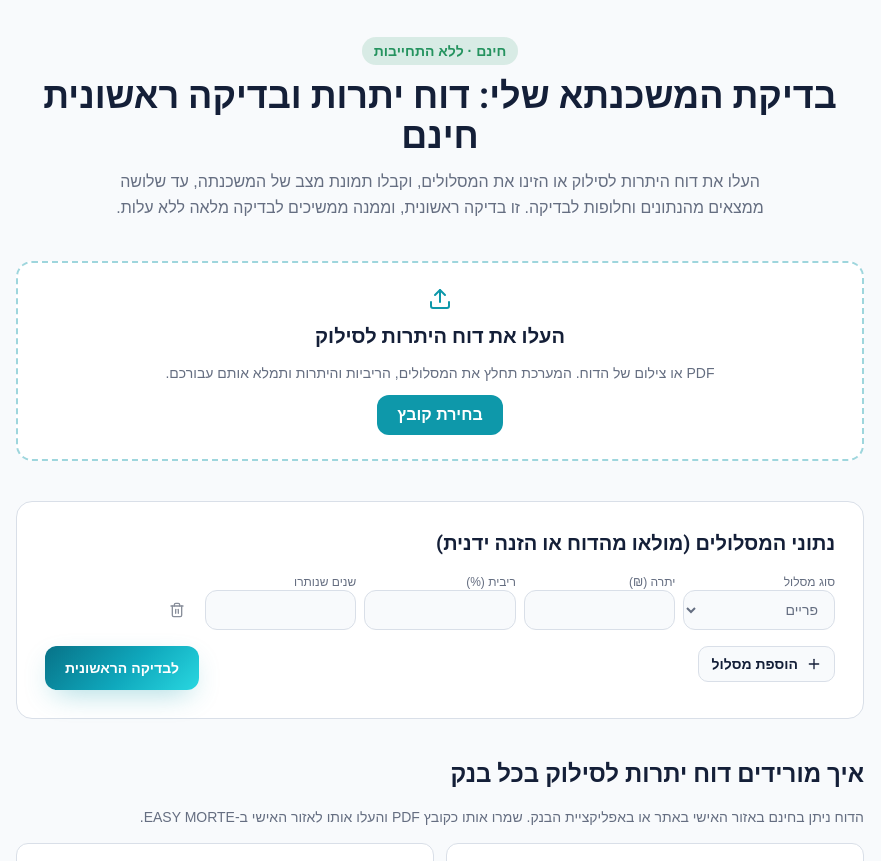
Scenario: BalanceCheckPage: alternatives against the baseline (#52 stage 3) › shows the baseline first, flags extension as not a saving, and keeps unknown costs unknown
Check: the text "בחירת קובץ" is shown, box [377,395,503,435]
Select "קבועה לא צמודה" in the dropdown labelled "סוג מסלול" at (759, 610), box [683,590,835,630]
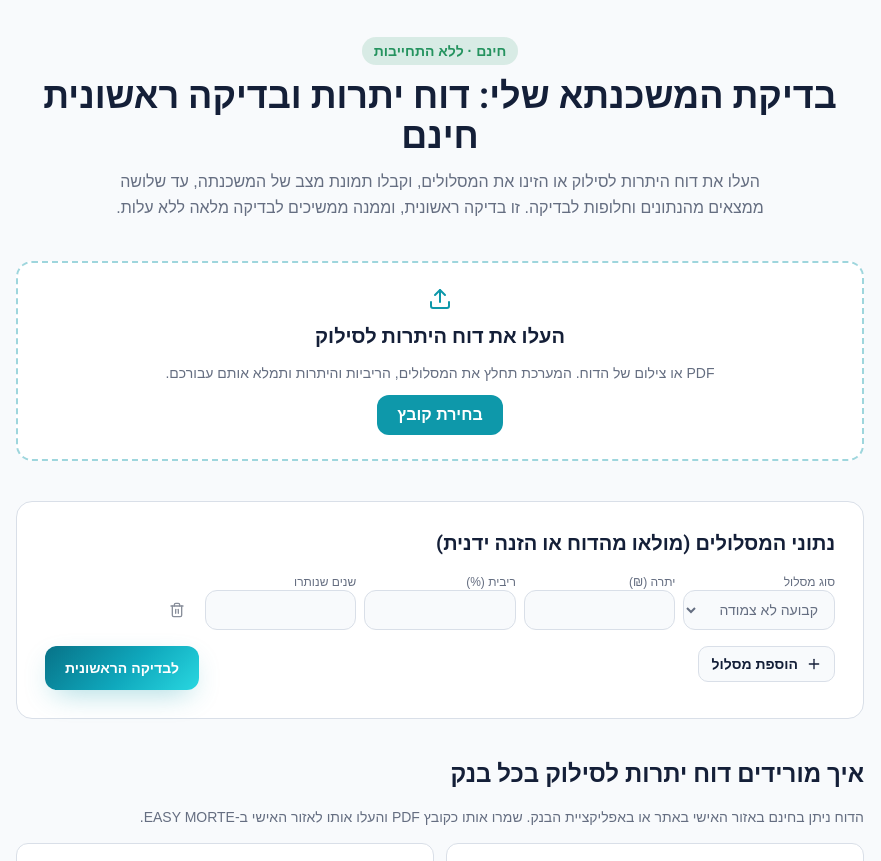
Type "500000" into the number field labelled "יתרה (₪)" at (600, 610), box [524,590,675,630]
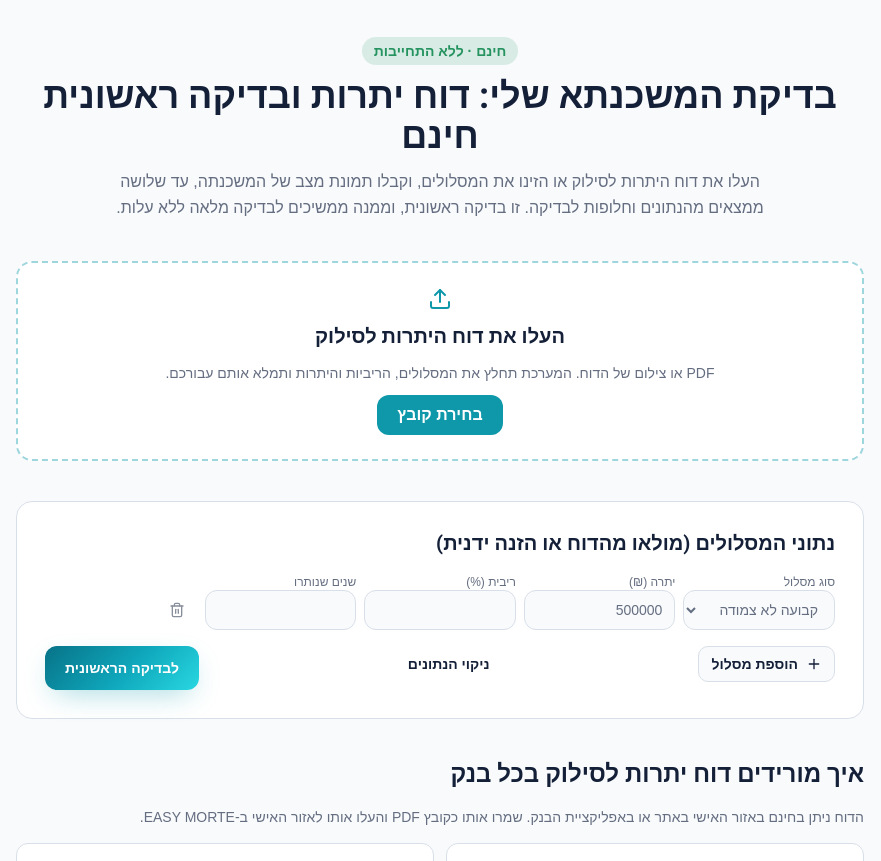
Type "6.2" into the number field labelled "ריבית (%)" at (440, 610), box [364,590,516,630]
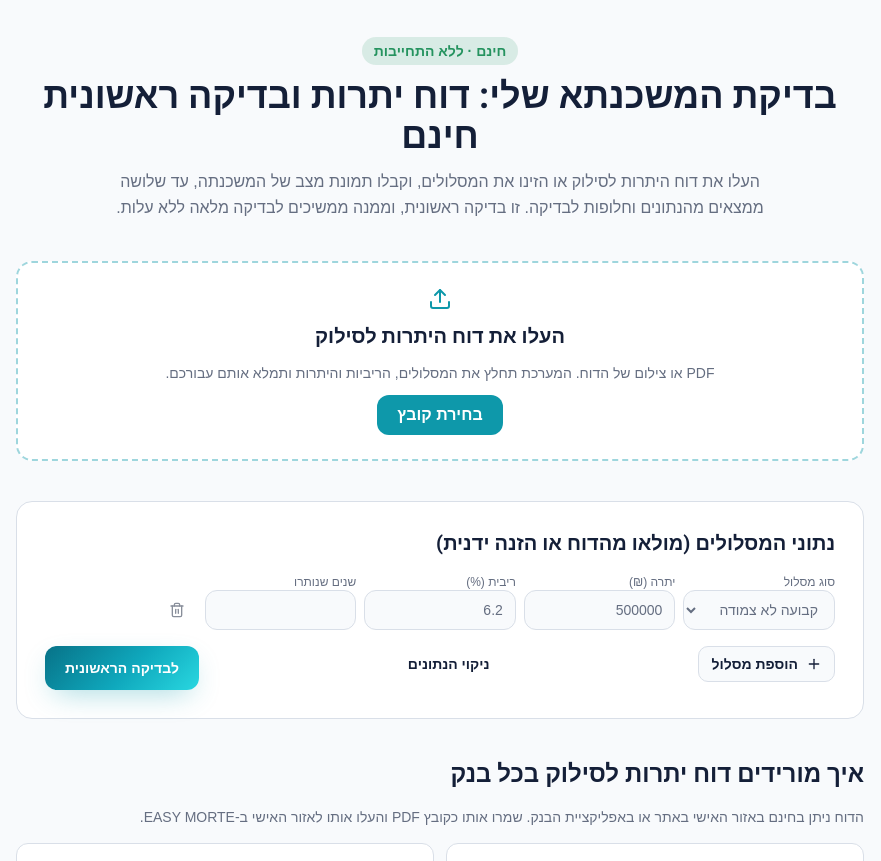
Type "20" into the number field labelled "שנים שנותרו" at (280, 610), box [205,590,356,630]
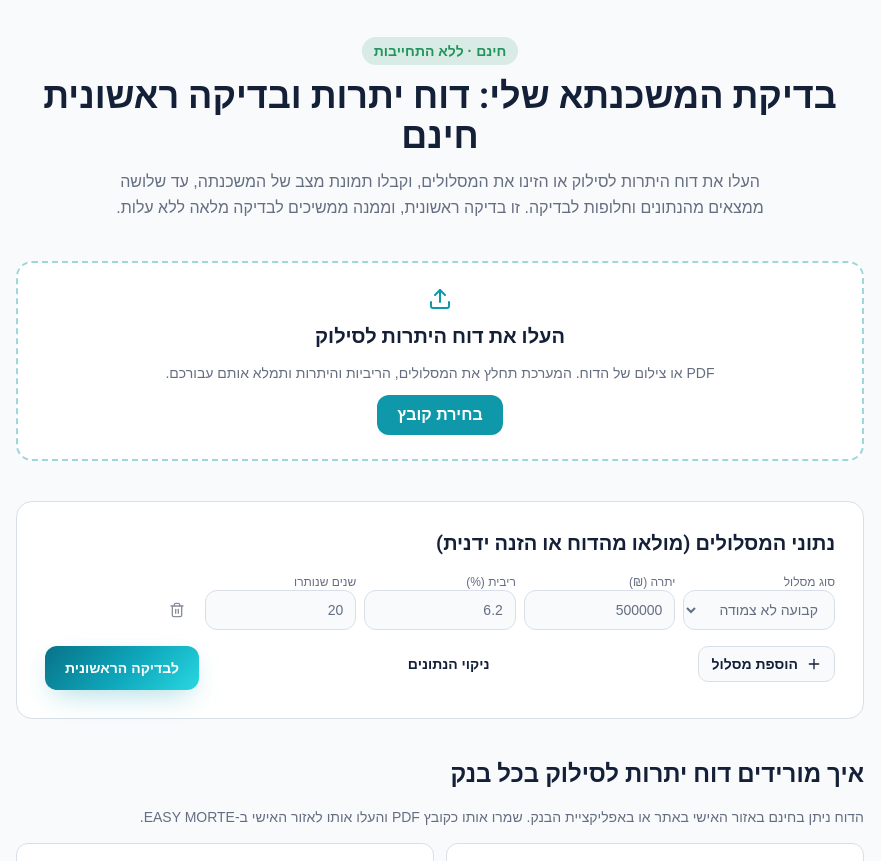
Click the button "לבדיקה הראשונית" at (122, 668), box [45,646,199,690]
(page scrolled)
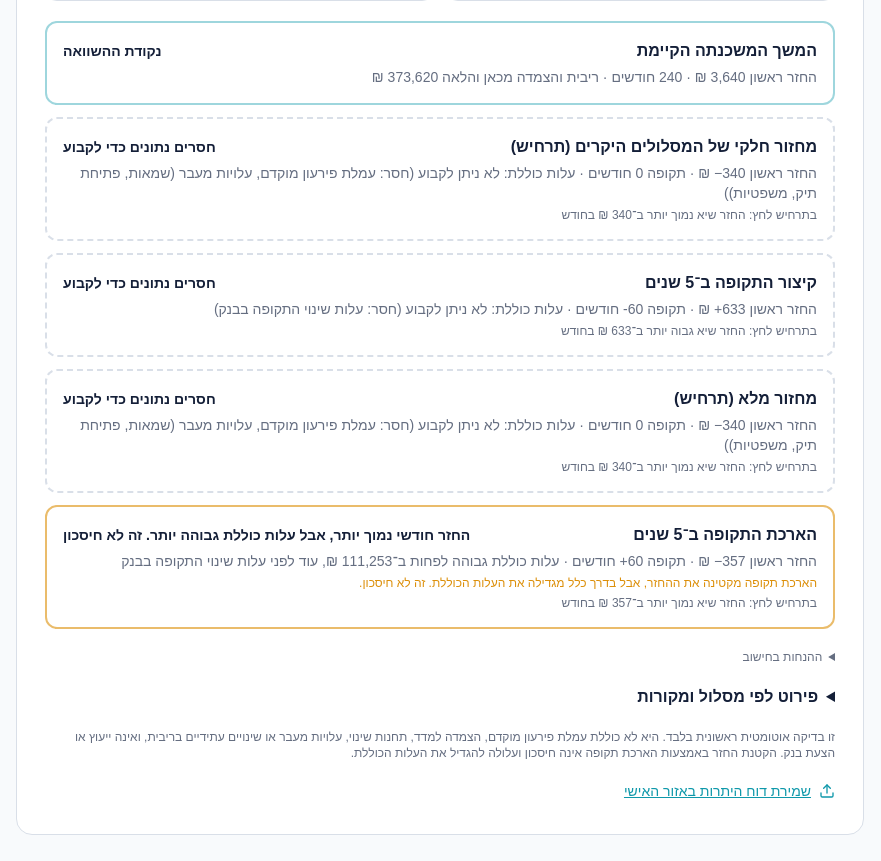
Check: the text "המשך המשכנתה הקיימת" is shown, box [637,39,817,63]
Check: the list item that starts with "הארכת התקופה ב־5 שנים" shows "זה לא חיסכון", box [63,527,470,543]
Check: the list item that starts with "הארכת התקופה ב־5 שנים" shows "עלות כוללת גבוהה לפחות ב־", box [121,553,560,569]
